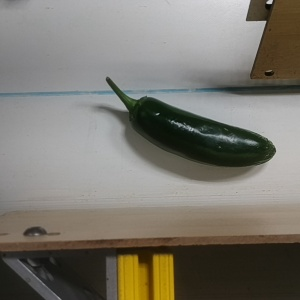Cut Point: (121, 93, 158, 130)
